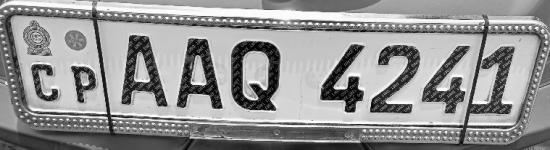1: (472, 38, 518, 124)
2: (368, 40, 420, 117)
4: (311, 40, 366, 115), (421, 42, 470, 122)
A: (115, 29, 170, 113), (174, 34, 226, 116)
C: (26, 59, 63, 107)
P: (67, 60, 103, 106)
Q: (227, 37, 291, 119)
